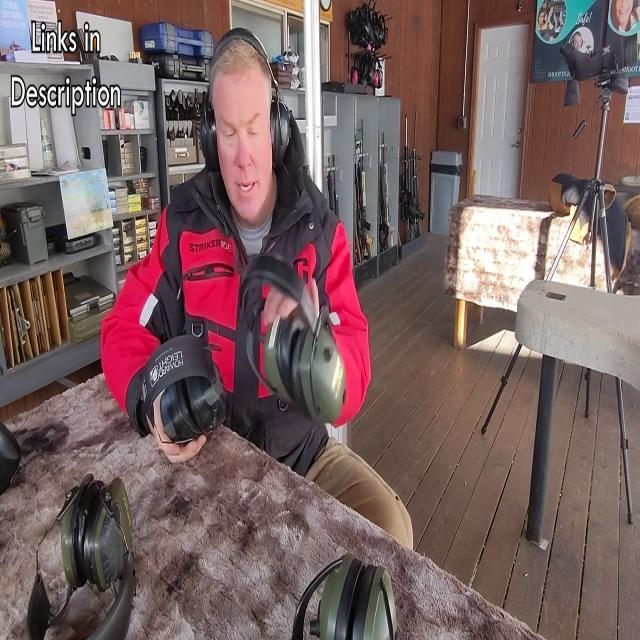earmuff: (268, 98, 294, 171), (198, 105, 223, 177)
